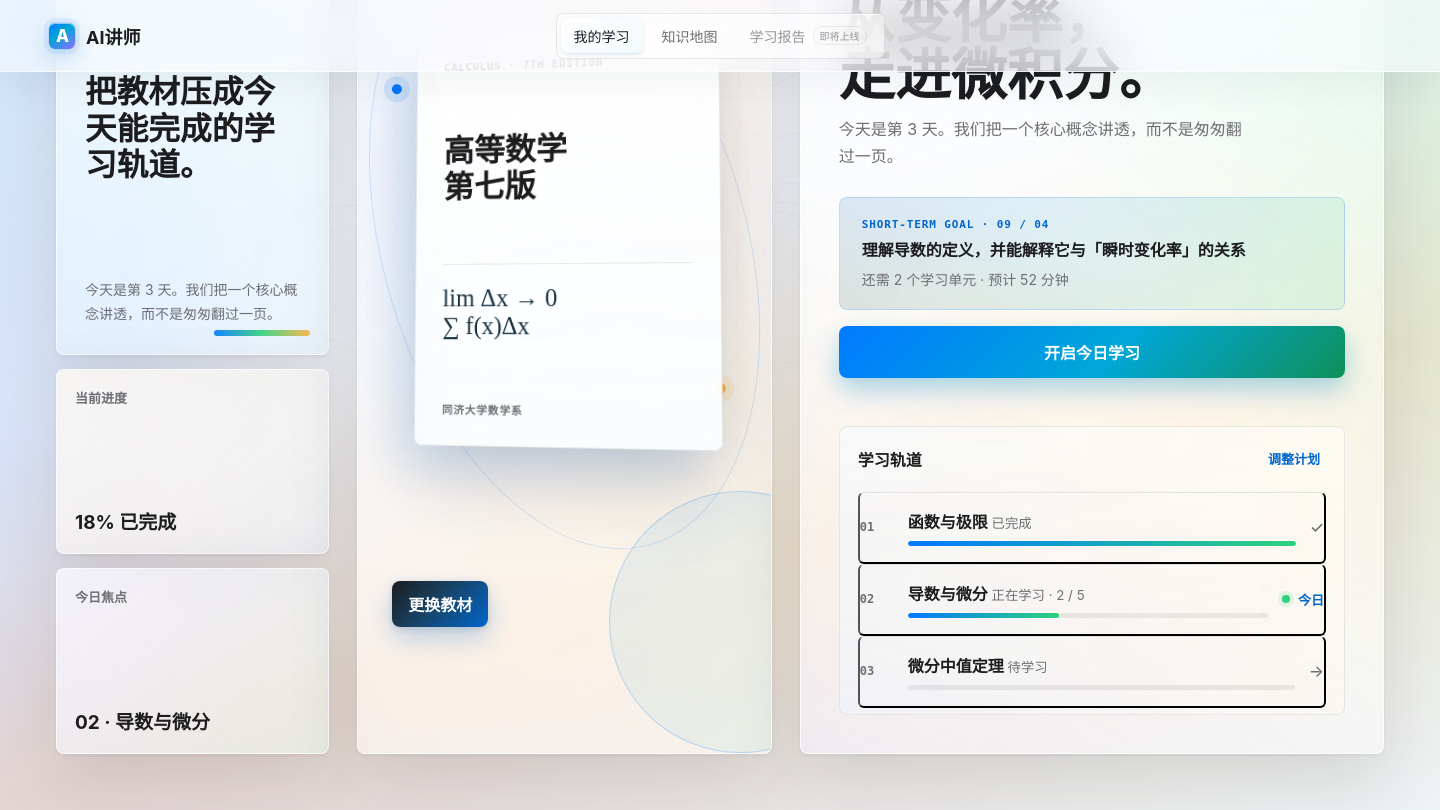
删除教材 › 删除失败时如实报错，教材留在列表里
(page scrolled)
Click the button "更换教材" at (440, 604), box [392,581,488,627]
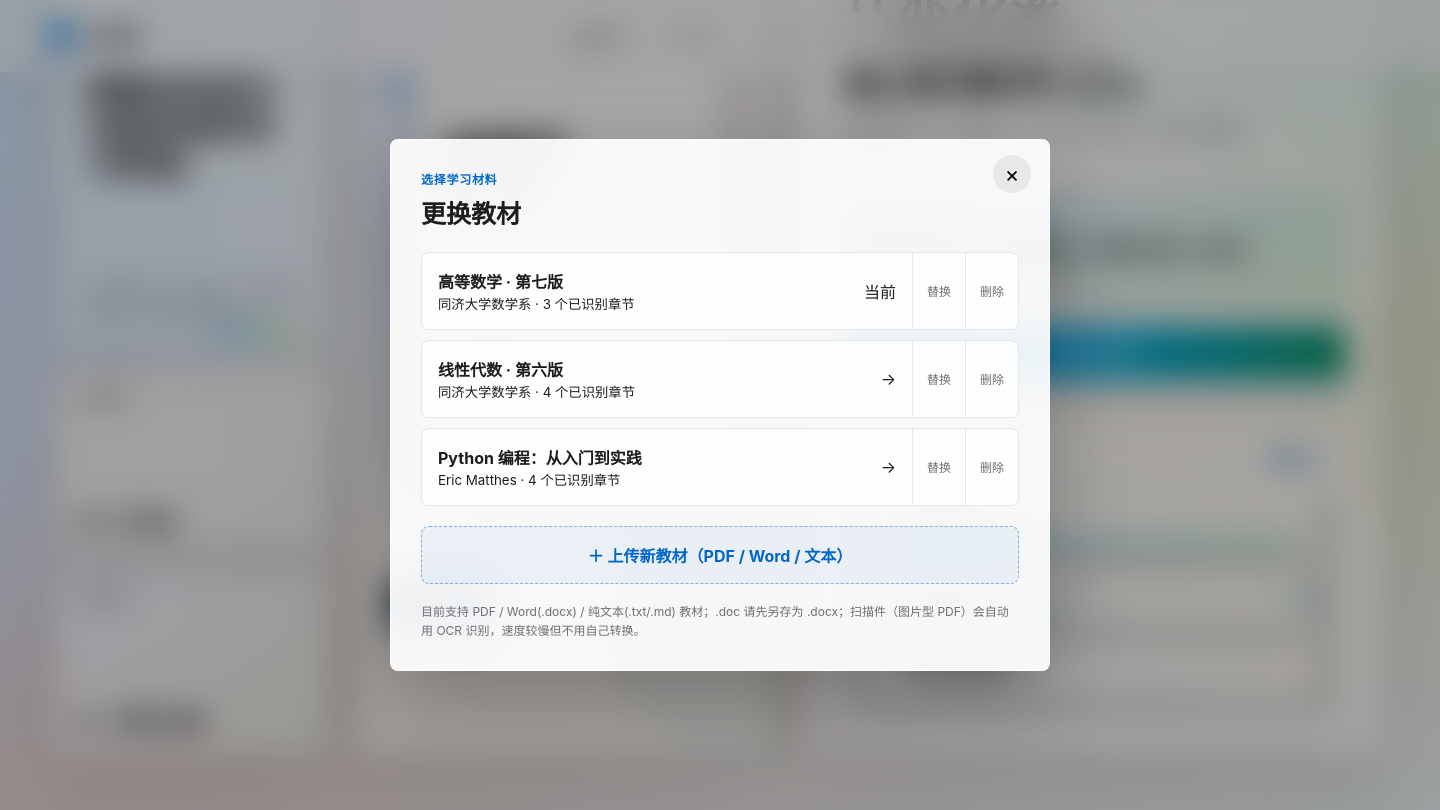
Click the button with aria-label "删除《线性代数》" at (992, 379), box [965,341,1018,417]
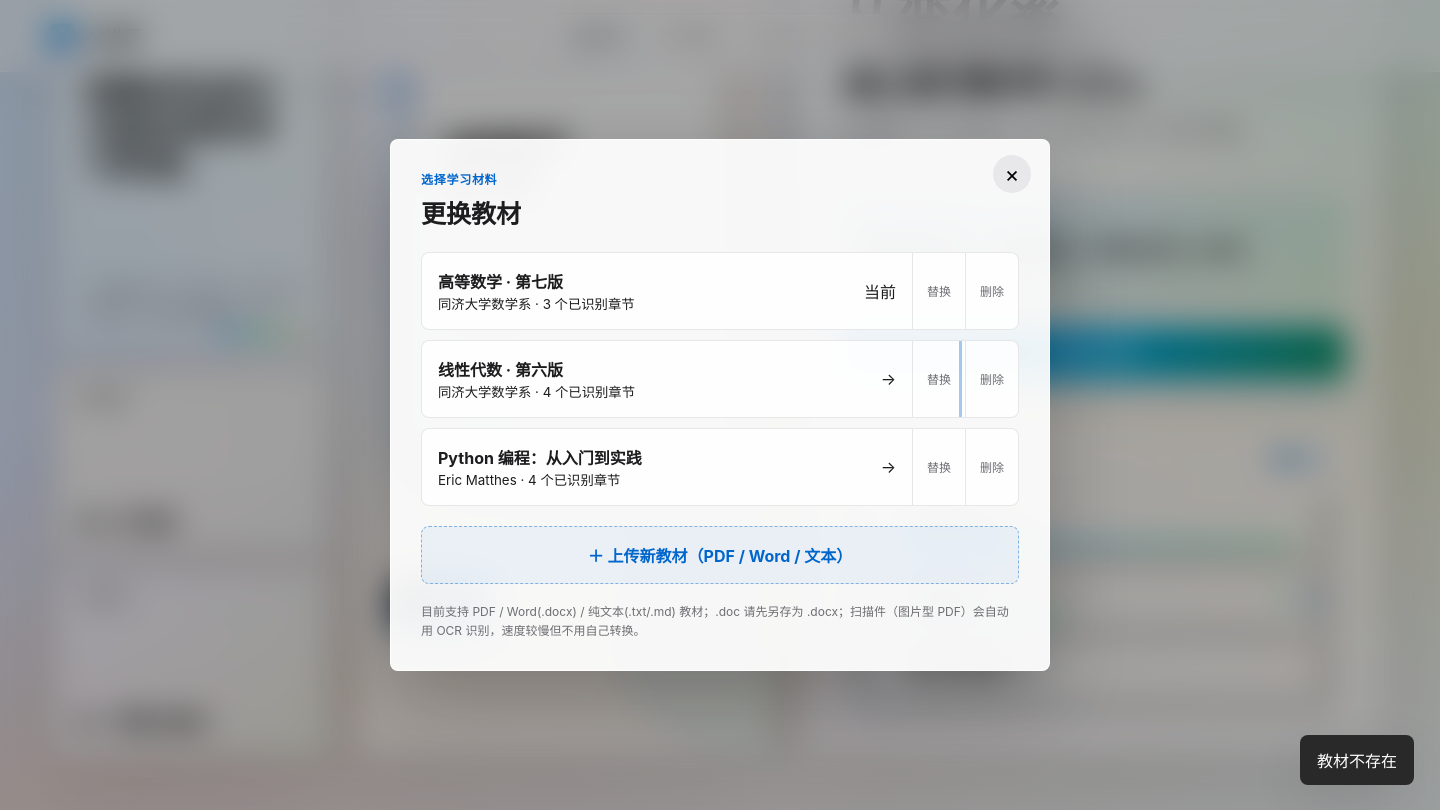
Expected: the button with test id "book-choice-linalg6" is shown, [422,341,912,417]
Expected: the text "教材不存在" is shown, [1300,735,1414,785]
